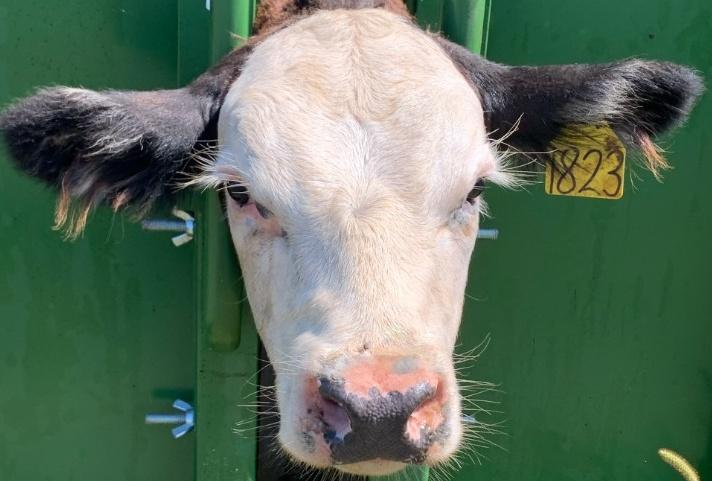muzzles: (259, 344, 472, 480)
